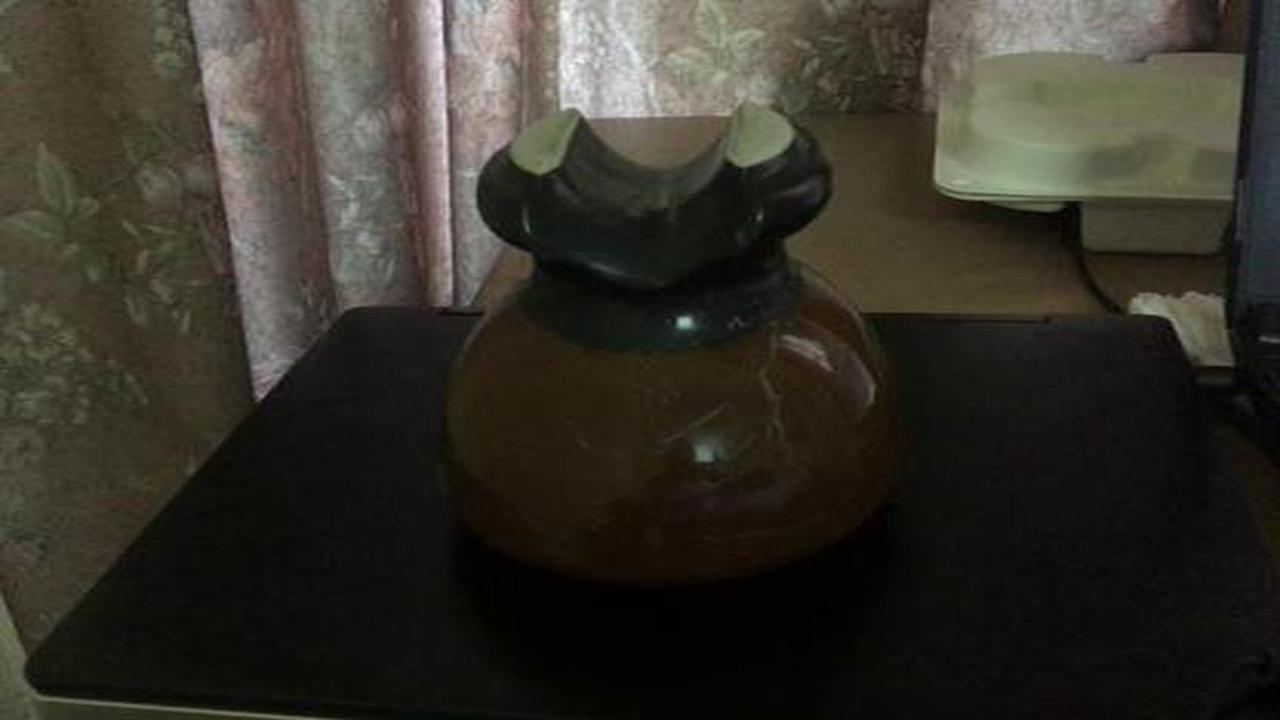insulator_pin: (425, 104, 933, 596)
